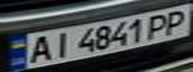1: (124, 16, 148, 44)
4: (109, 19, 133, 47), (75, 25, 96, 54)
8: (93, 22, 115, 52)
A: (21, 34, 57, 65)
I: (45, 29, 75, 60)
P: (160, 7, 193, 36), (142, 11, 175, 39)
